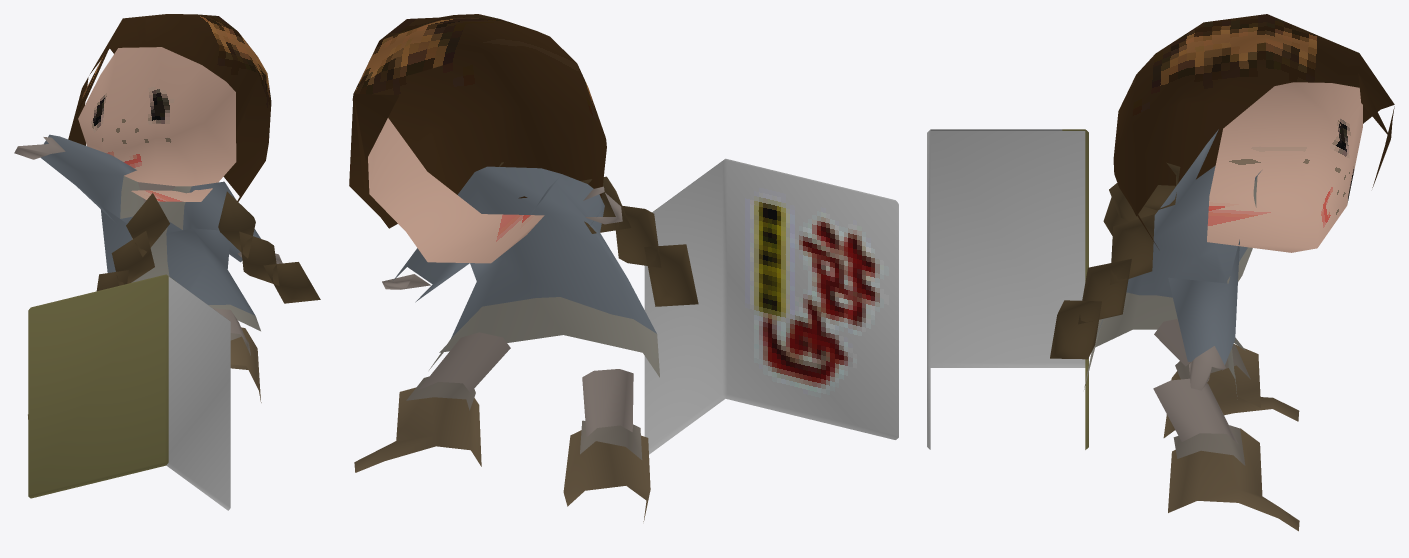
The model's file is ps2_save-icons_gamblertetsuya2.glb.
3 renders of one model, left to right at view 1: azimuth 30°, elevation 25°; view 2: azimuth 150°, elevation 25°; view 3: azimuth 270°, elevation 25°, orthographic. The views are drawn at different scales.
Visible parts, largest first — view 1: NORMAL.BIN; view 2: NORMAL.BIN; view 3: NORMAL.BIN.
Part boxes in pixels (x1,y1,x2,y2): NORMAL.BIN: (14,14,320,510); NORMAL.BIN: (349,14,898,521); NORMAL.BIN: (927,14,1394,531).
Size of the model in its own units: 3.64 by 4.32 by 3.91.
1 material, 1 textured.
